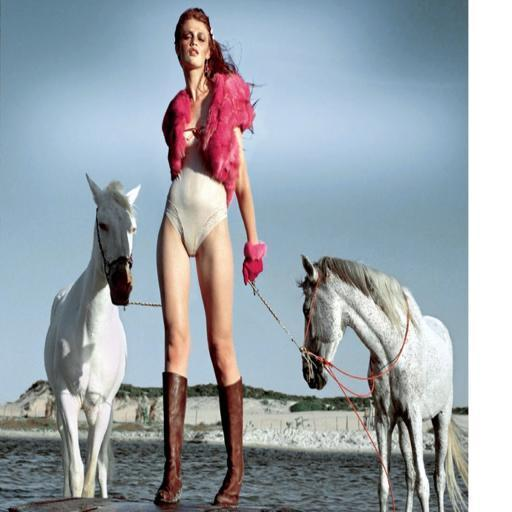horse: (293, 252, 467, 511), (42, 174, 142, 496)
